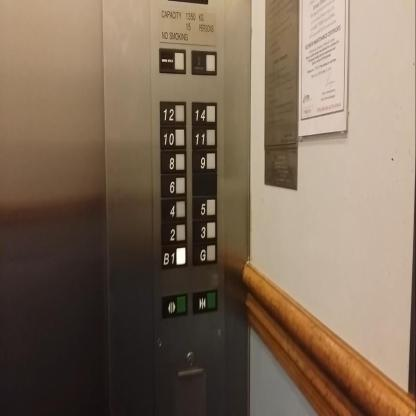10: (159, 125, 187, 151)
11: (191, 124, 217, 151)
12: (159, 100, 187, 126)
14: (191, 100, 217, 128)
2: (160, 219, 188, 247)
3: (192, 216, 218, 244)
4: (160, 195, 187, 223)
5: (192, 192, 218, 220)
6: (160, 171, 186, 199)
8: (159, 148, 187, 173)
9: (192, 147, 218, 174)
B1: (160, 242, 188, 270)
G: (192, 239, 218, 267)
close: (192, 288, 218, 316)
keyhole: (187, 352, 194, 366)
open: (161, 291, 187, 319)
text: (158, 46, 186, 75), (190, 48, 217, 76)
